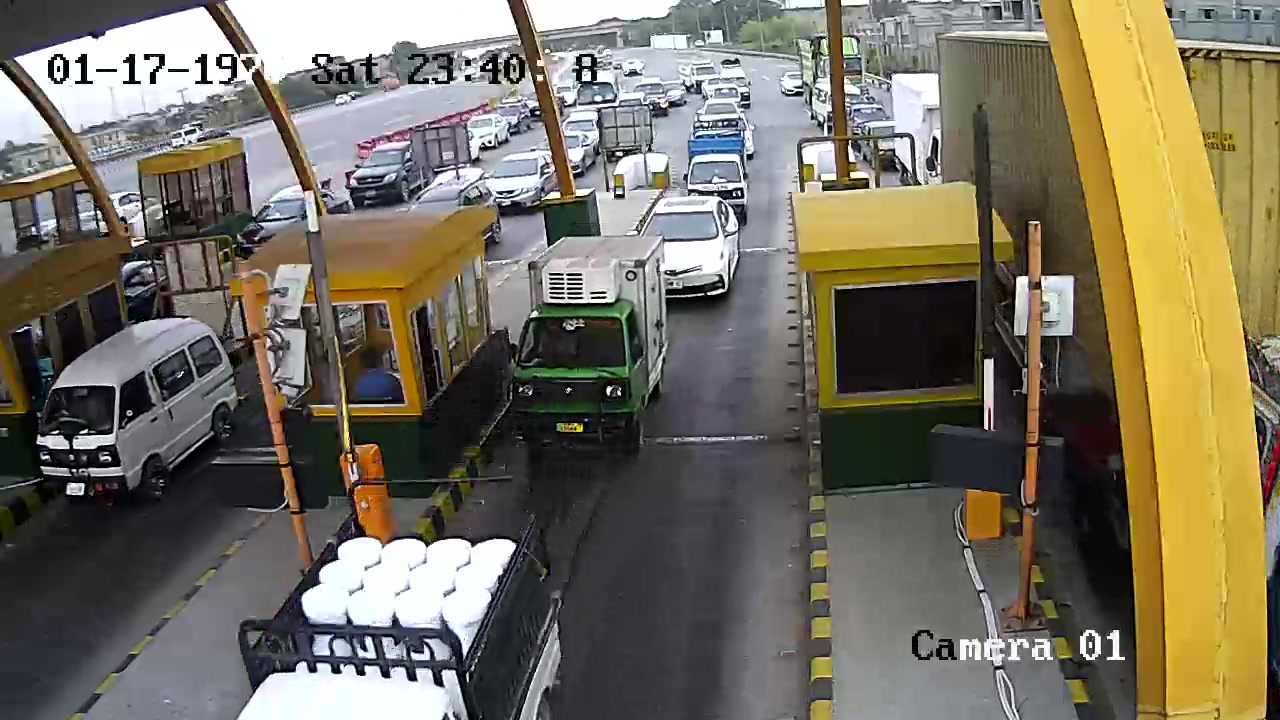F1: (512, 226, 670, 460)
